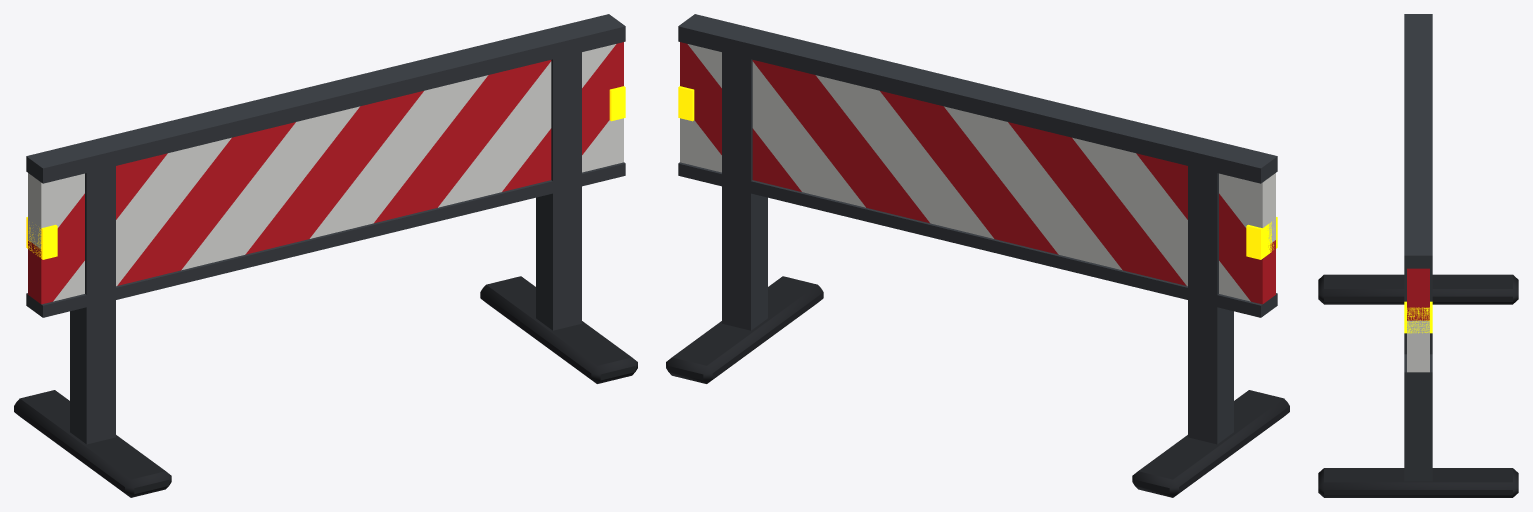
File: barrier_low.glb
3 views of the same model, side by side, from view 1: azimuth 30°, elevation 25°; view 2: azimuth 150°, elevation 25°; view 3: azimuth 270°, elevation 25° (orthographic). The views are drawn at different scales.
Parts seen in each view (by area): view 1: Barrier_Low_Mesh; view 2: Barrier_Low_Mesh; view 3: Barrier_Low_Mesh.
Boxes of the visible parts, x1,y1,x2,y2 form: Barrier_Low_Mesh: [14, 14, 637, 497]; Barrier_Low_Mesh: [666, 14, 1289, 497]; Barrier_Low_Mesh: [1318, 14, 1518, 497].
Bounding box in the file's own units: 2 × 1 × 0.7.
